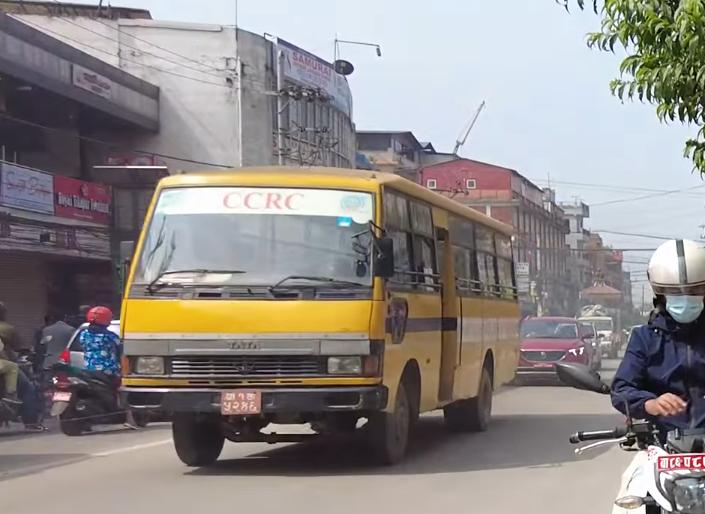car: (512, 313, 598, 384)
school_bus: (119, 161, 526, 471)
